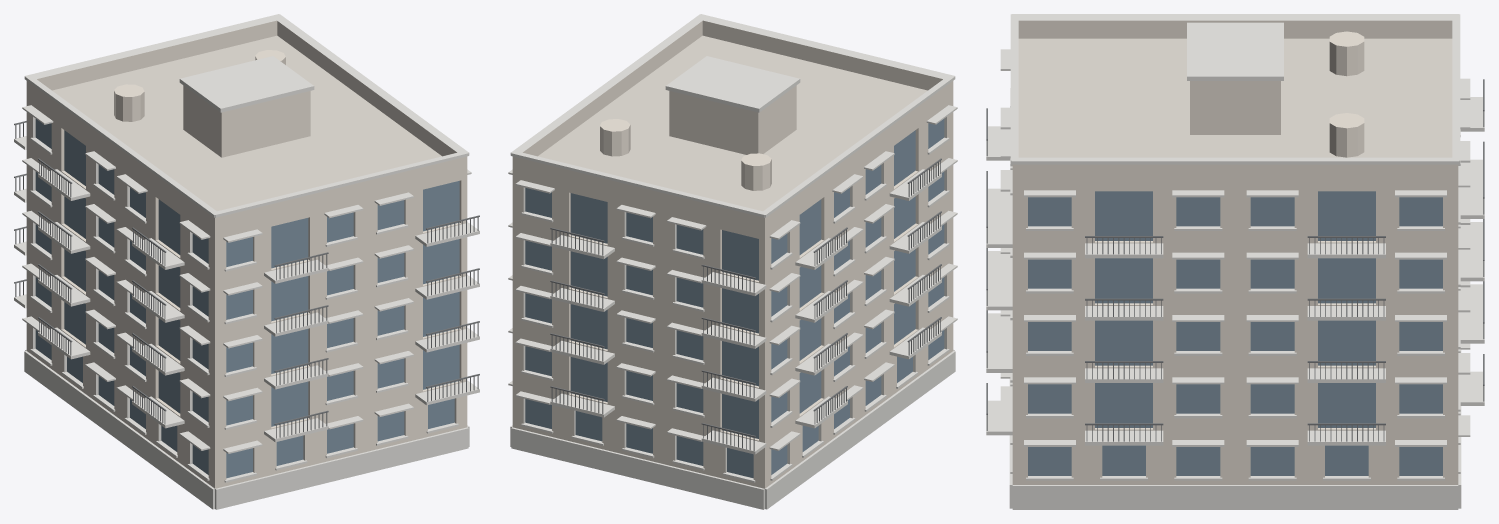
The model's file is Staff_Quarters_4.fbx.
3 views of the same model, side by side, from view 1: azimuth 30°, elevation 25°; view 2: azimuth 150°, elevation 25°; view 3: azimuth 270°, elevation 25° (orthographic). The views are drawn at different scales.
Visible parts, largest first — view 1: Staff_Quarters_4; view 2: Staff_Quarters_4; view 3: Staff_Quarters_4.
Boxes of the visible parts, x1=… form: Staff_Quarters_4: x1=14, y1=14, x2=479, y2=509; Staff_Quarters_4: x1=508, y1=14, x2=957, y2=509; Staff_Quarters_4: x1=986, y1=14, x2=1484, y2=509.
Bounding box in the file's own units: 19.6 × 21.05 × 24.6.
